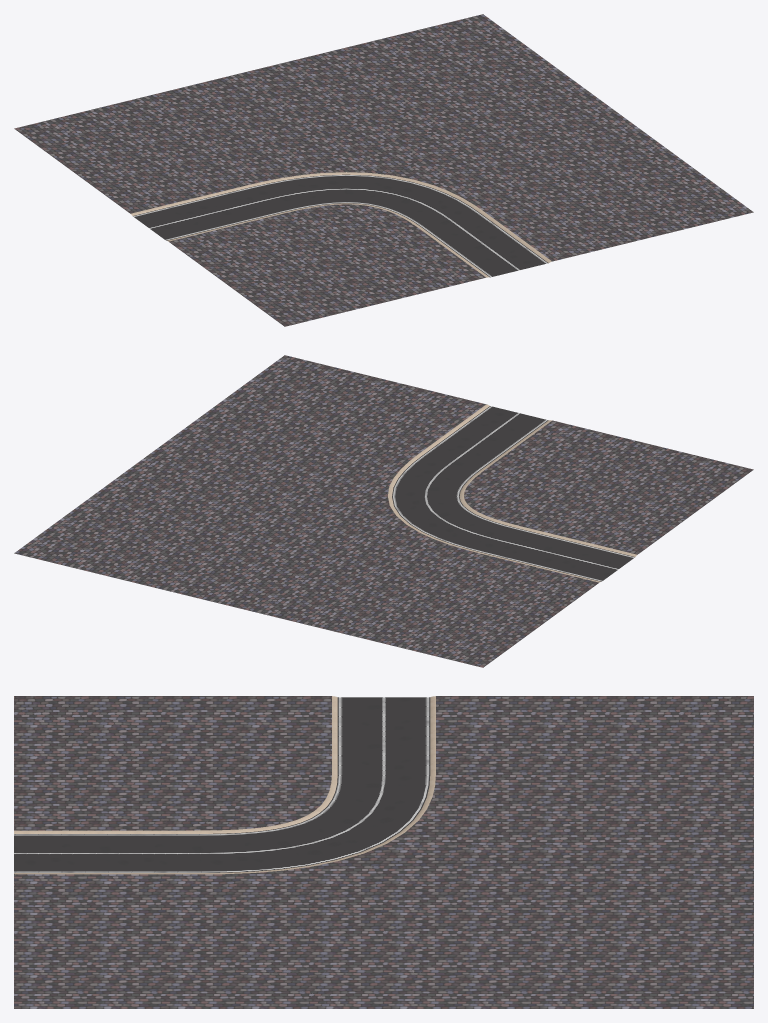
Rendered from RoadCurve_SE.fbx.
3 views of the same model, one above another, from view 1: azimuth 30°, elevation 25°; view 2: azimuth 150°, elevation 25°; view 3: azimuth 270°, elevation 25° (orthographic). The views are drawn at different scales.
Parts seen in each view (by area): view 1: RoadCurve_SE; view 2: RoadCurve_SE; view 3: RoadCurve_SE.
Boxes of the visible parts, x1=… form: RoadCurve_SE: x1=14, y1=14, x2=753, y2=326; RoadCurve_SE: x1=14, y1=355, x2=753, y2=667; RoadCurve_SE: x1=14, y1=696, x2=753, y2=1008.
Size of the model in its own units: 6400 by 10 by 6400.
